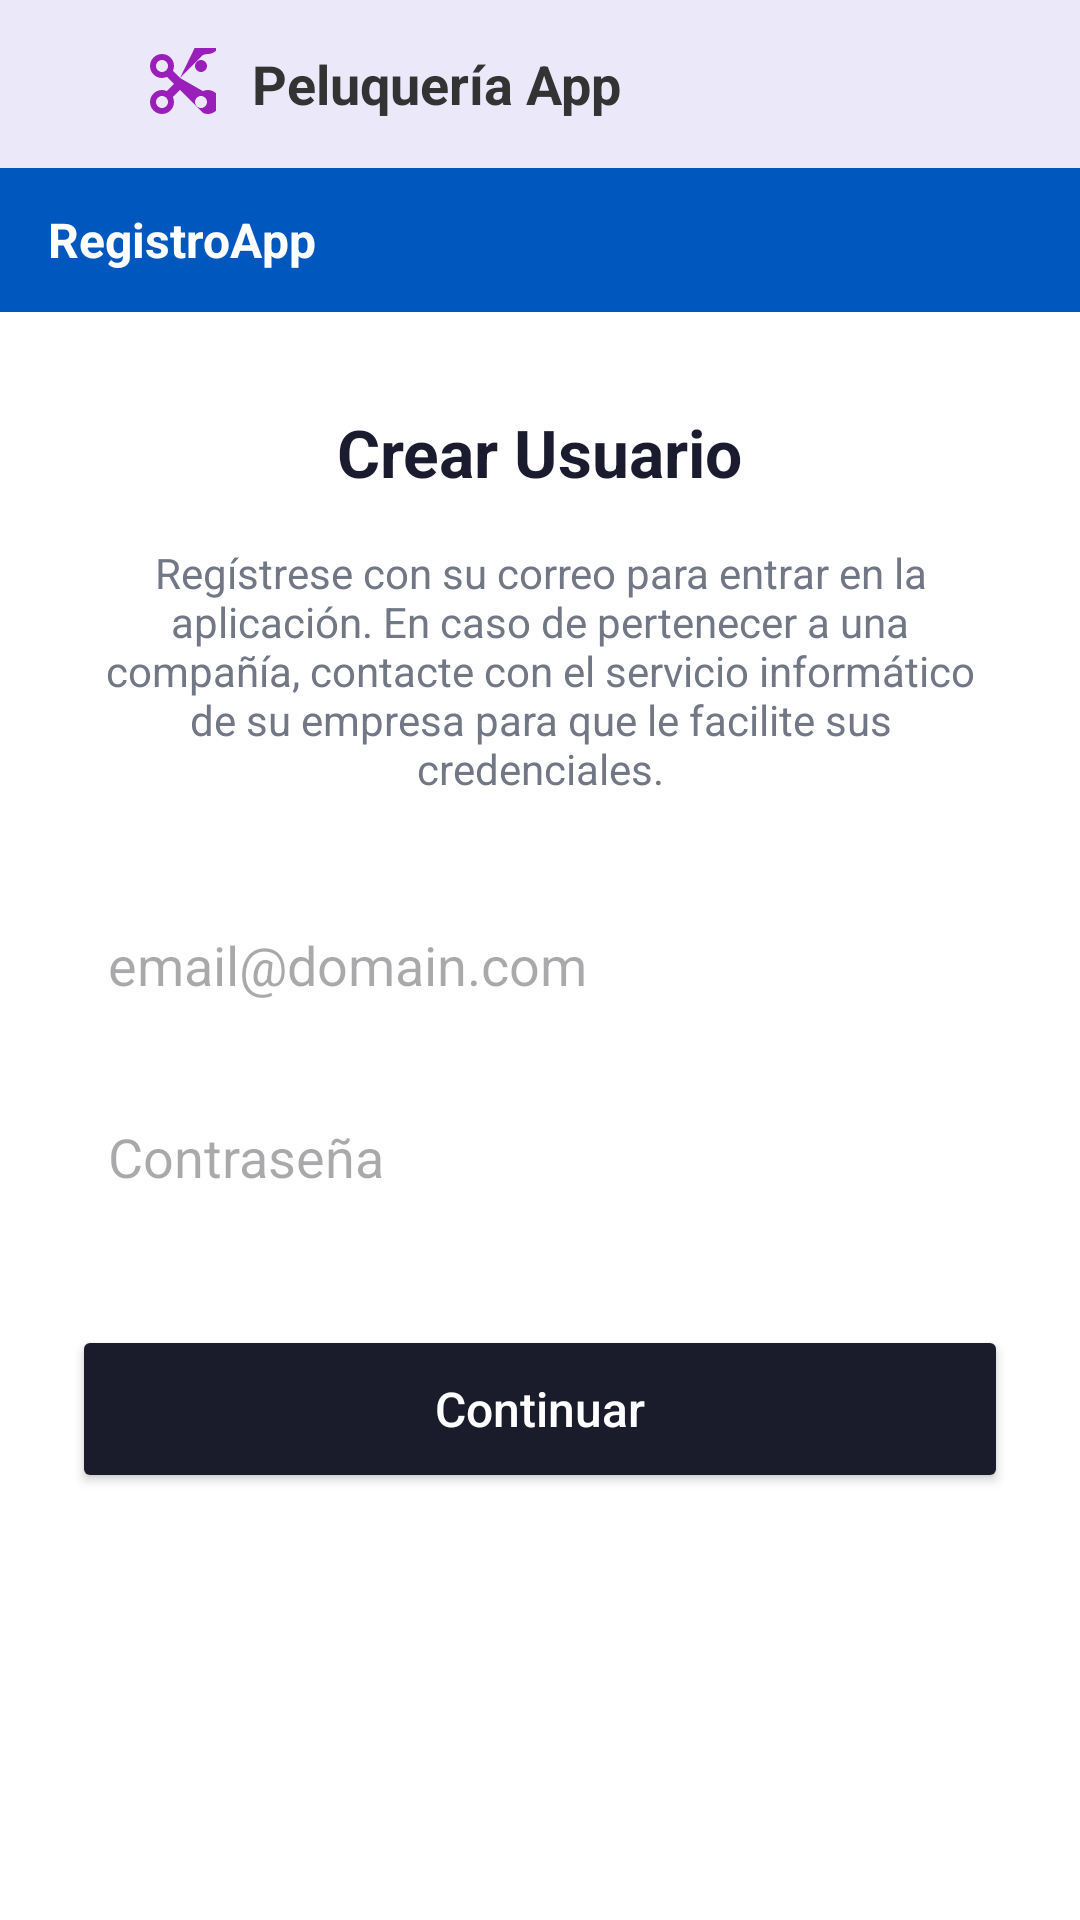

Named icons in this screenshot (1080 × 1920) and their centers, (x=x, y=y):
content cut: (x=183, y=81)
